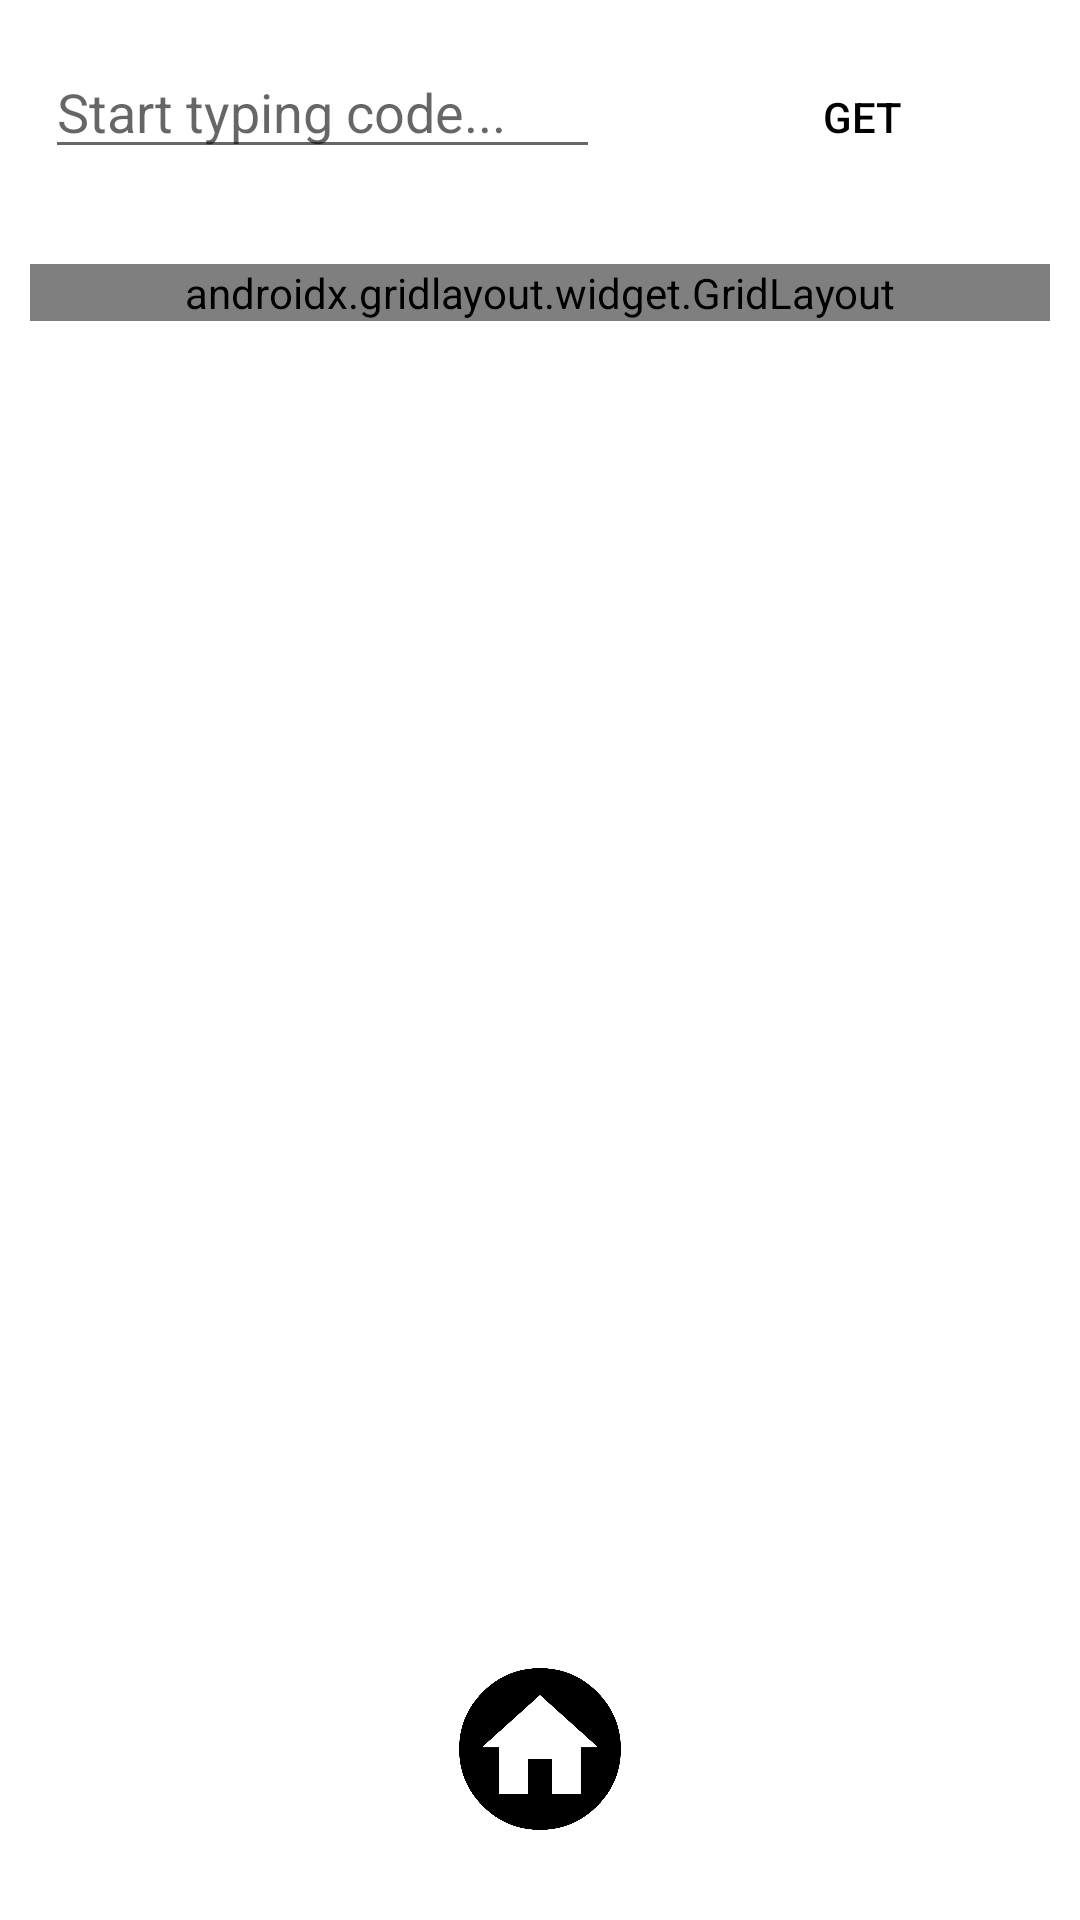

Point at icon controls on the screen. Image size 1080×1920, points as (x=x, y=y).
home: (x=540, y=1749)
